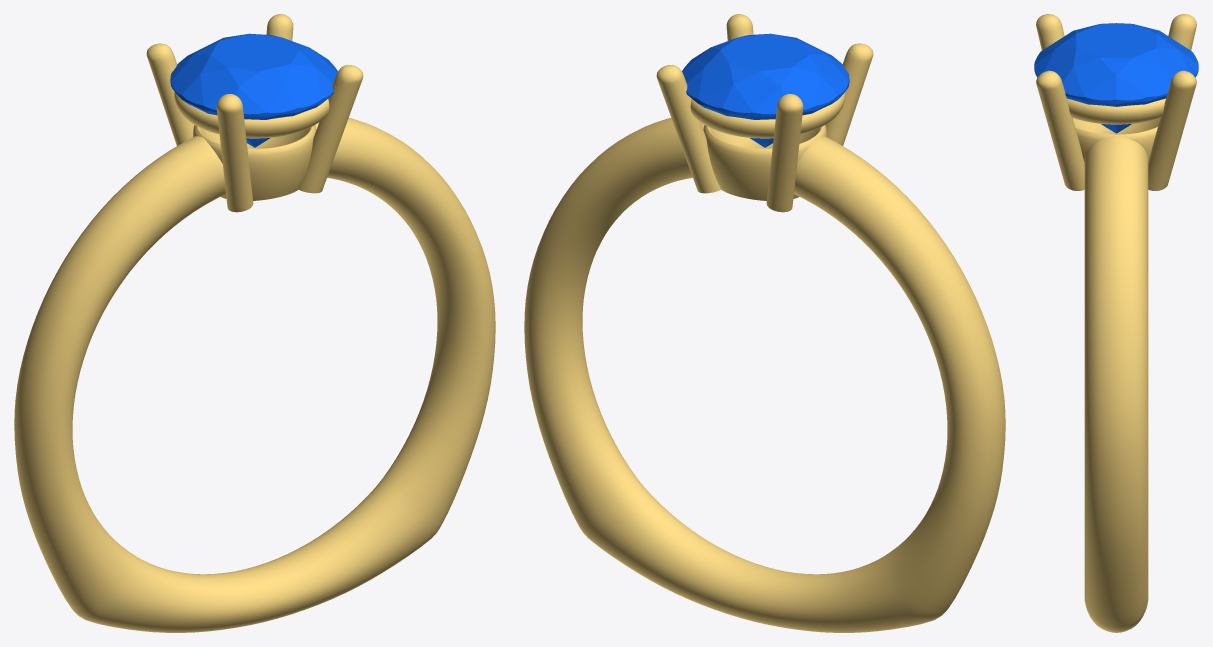
Rendered from bluesapphire-round-yellowgold-4prong-europeanshank-nosidestones.glb.
The picture shows the model from 3 angles, left to right: view 1: azimuth 30°, elevation 25°; view 2: azimuth 150°, elevation 25°; view 3: azimuth 270°, elevation 25°; orthographic projection. The views are drawn at different scales.
Visible parts, largest first — view 1: RoundEuroShankNoStones, Roundstone; view 2: RoundEuroShankNoStones, Roundstone; view 3: RoundEuroShankNoStones, Roundstone.
Boxes of the visible parts, bbox=[...] form: RoundEuroShankNoStones: bbox=[14, 14, 495, 632]; Roundstone: bbox=[170, 33, 337, 147]; RoundEuroShankNoStones: bbox=[524, 14, 1005, 632]; Roundstone: bbox=[682, 33, 849, 147]; RoundEuroShankNoStones: bbox=[1036, 14, 1196, 632]; Roundstone: bbox=[1034, 23, 1198, 133].
Size of the model in its own units: 20.7 by 23.81 by 6.44.
